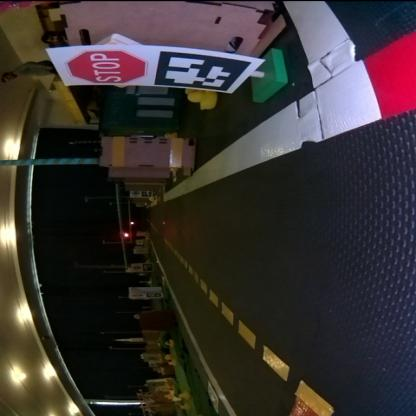Duckie: (188, 92, 214, 108), (178, 390, 188, 398), (164, 340, 172, 346), (168, 360, 176, 366)
QR code: (154, 51, 250, 90), (208, 383, 218, 412)
Stop sign: (64, 50, 146, 82)
